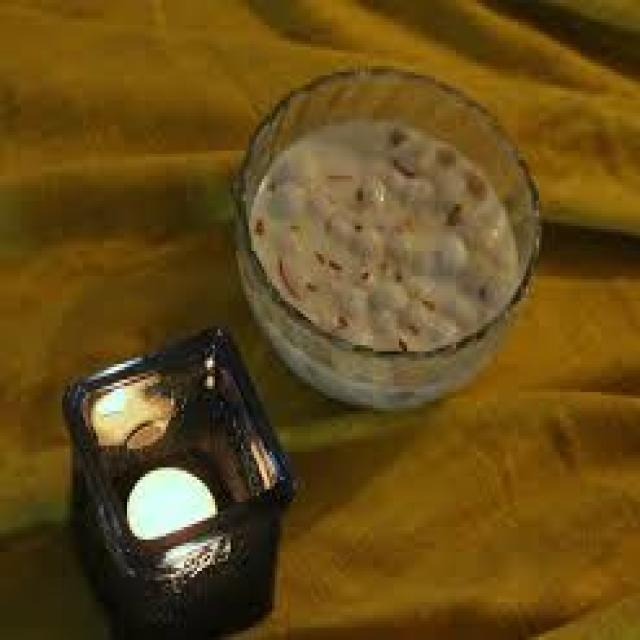paal kolukattai: (258, 94, 520, 359)
